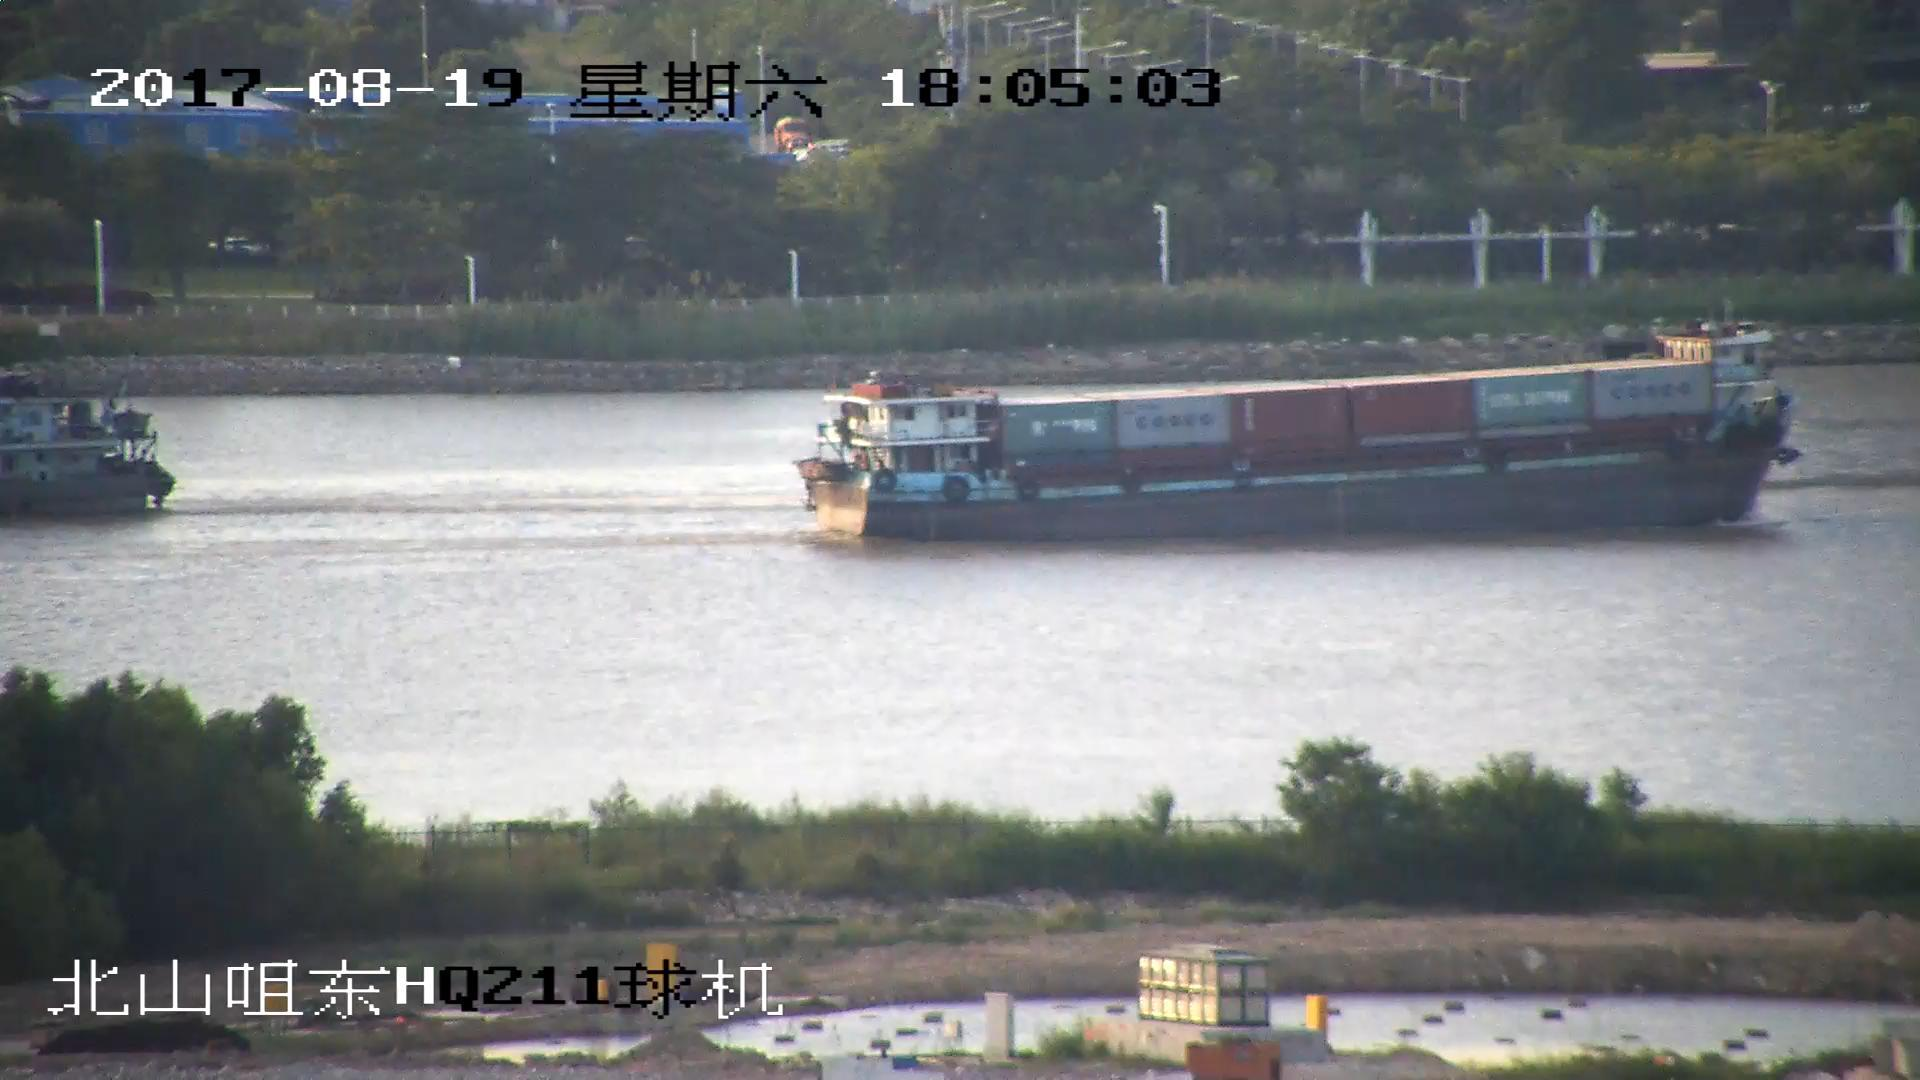Ship: (802, 336, 1797, 545)
